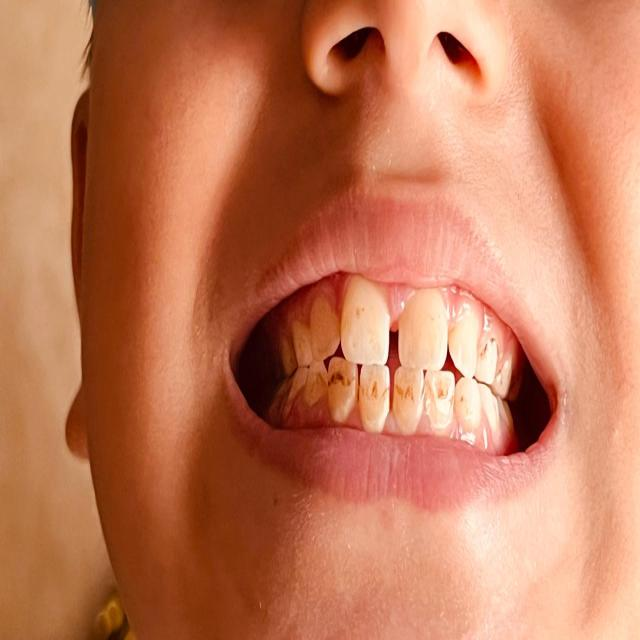tooth: (400, 299, 446, 367), (349, 284, 385, 366), (427, 366, 451, 422), (364, 362, 386, 420), (457, 308, 477, 370), (458, 377, 481, 429), (401, 362, 419, 427), (314, 297, 335, 351), (335, 359, 353, 421), (478, 335, 498, 383), (486, 388, 500, 438), (296, 319, 311, 365), (307, 364, 323, 402), (290, 376, 302, 420)
